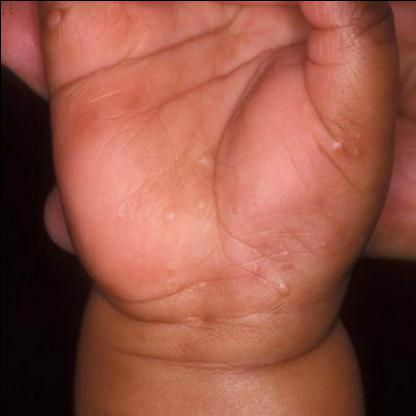Fire ant: (159, 260, 214, 334), (242, 239, 304, 304), (296, 121, 372, 159), (42, 2, 69, 37), (156, 200, 182, 230), (193, 85, 219, 113), (314, 193, 340, 220), (192, 150, 214, 172), (193, 191, 211, 217), (316, 228, 332, 256), (224, 197, 245, 217), (293, 94, 312, 113), (114, 204, 127, 221)
